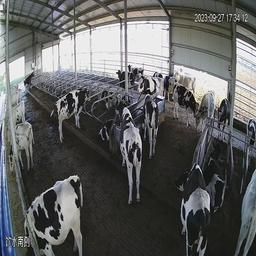cow: (24, 177, 92, 250), (180, 148, 211, 251), (116, 99, 143, 208), (49, 80, 91, 145), (237, 155, 255, 249), (2, 122, 36, 167), (206, 147, 227, 216), (143, 90, 162, 157), (170, 81, 196, 125), (197, 85, 215, 133), (138, 70, 166, 99), (5, 101, 29, 132), (115, 62, 135, 96), (169, 66, 194, 90), (218, 91, 229, 141), (242, 111, 255, 153), (98, 111, 112, 141), (98, 82, 115, 106), (5, 85, 22, 102), (130, 56, 143, 78)
